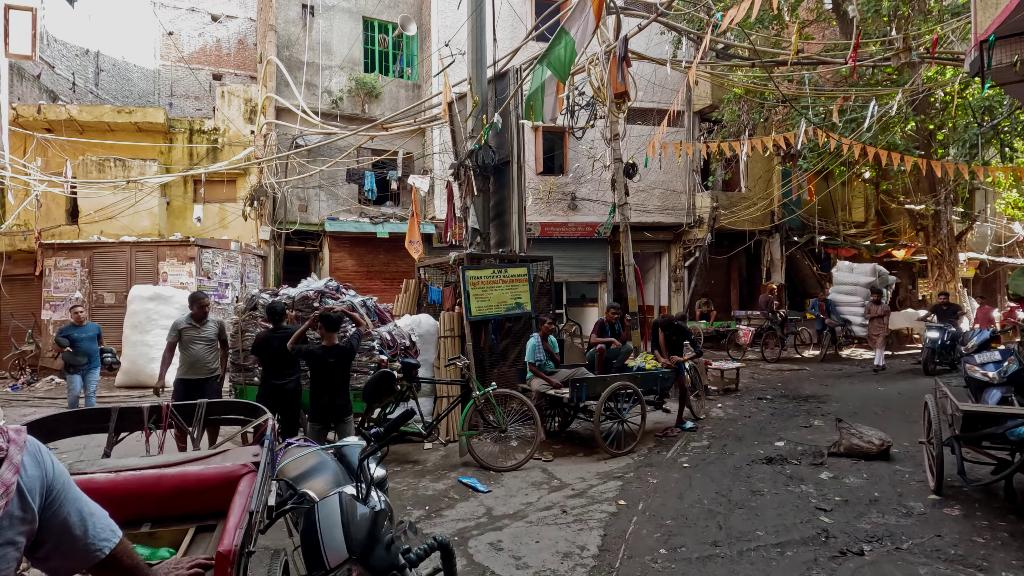garbage: (453, 474, 494, 499)
